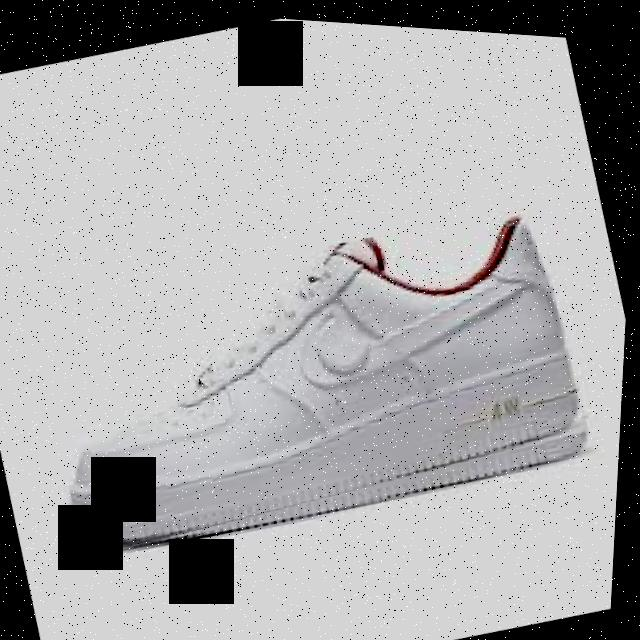shoe: (9, 167, 613, 588)
